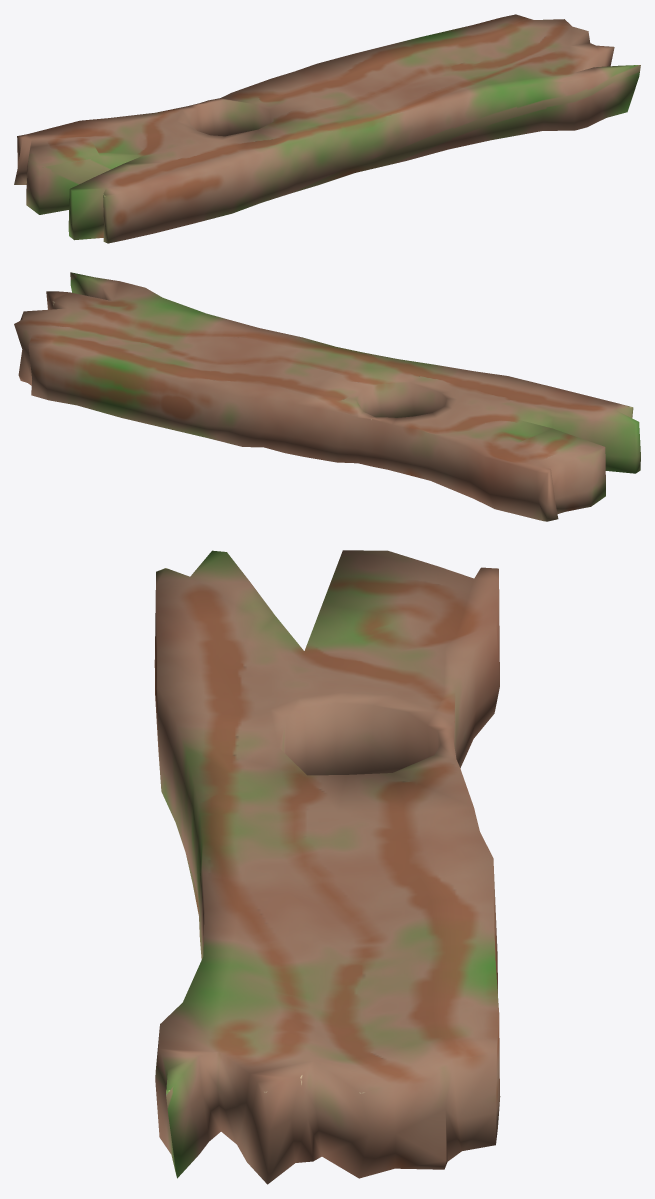
The model's file is Plank.glb.
3 renders of one model, top to bottom at view 1: azimuth 30°, elevation 25°; view 2: azimuth 150°, elevation 25°; view 3: azimuth 270°, elevation 25°, orthographic. The views are drawn at different scales.
Parts seen in each view (by area): view 1: CBRetopo; view 2: CBRetopo; view 3: CBRetopo.
Part boxes in pixels (x1,y1,x2,y2): CBRetopo: (14, 14, 640, 243); CBRetopo: (14, 272, 640, 521); CBRetopo: (154, 550, 500, 1184).
Bounding box in the file's own units: 0.9977 × 0.0845 × 0.2673.
Materials: 1 (1 with a texture image).
